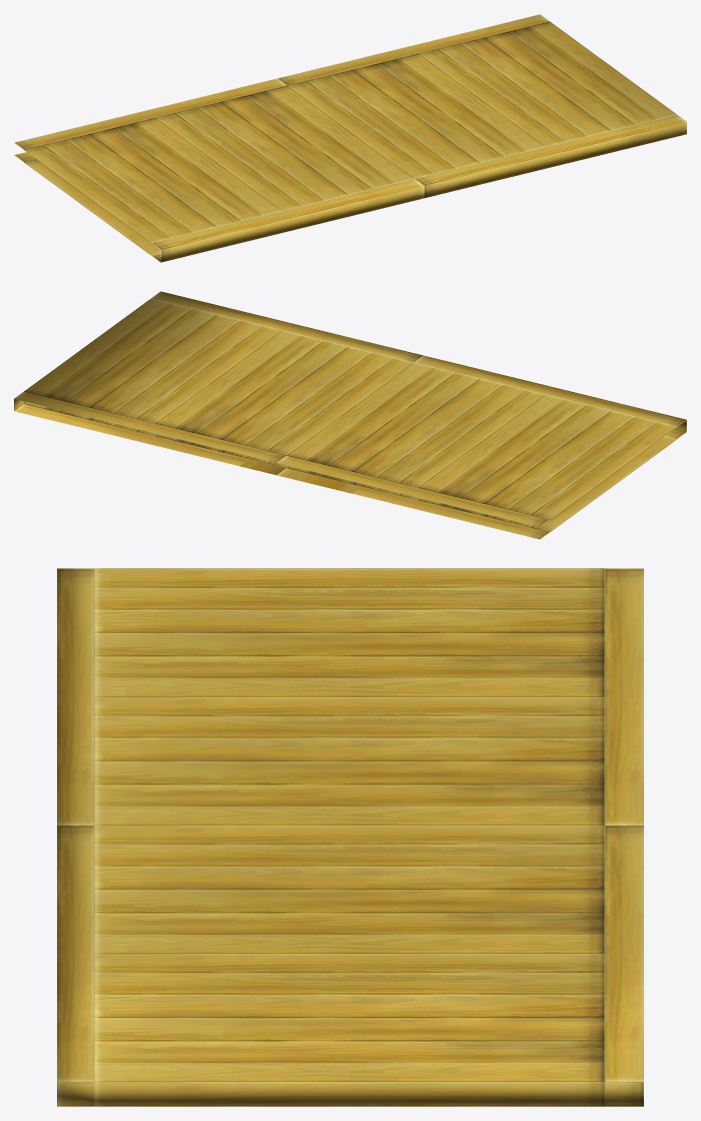
The model's file is HTOWN01_MILLPLATFORM02.fbx.
3 views of the same model, one above another, from view 1: azimuth 30°, elevation 25°; view 2: azimuth 150°, elevation 25°; view 3: azimuth 270°, elevation 25° (orthographic). The views are drawn at different scales.
Visible parts, largest first — view 1: HTOWN01_MILLPLATFORM02; view 2: HTOWN01_MILLPLATFORM02; view 3: HTOWN01_MILLPLATFORM02.
Boxes of the visible parts, <box> form: HTOWN01_MILLPLATFORM02: <box>14,14,686,262</box>; HTOWN01_MILLPLATFORM02: <box>14,291,686,539</box>; HTOWN01_MILLPLATFORM02: <box>57,568,643,1106</box>.
Size of the model in its own units: 84006 by 1897 by 40596.
1 material, 1 textured.
